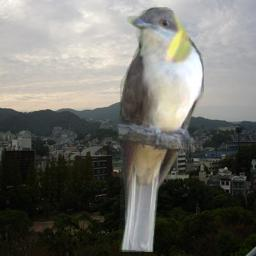Cuckoo: (114, 7, 204, 252)
